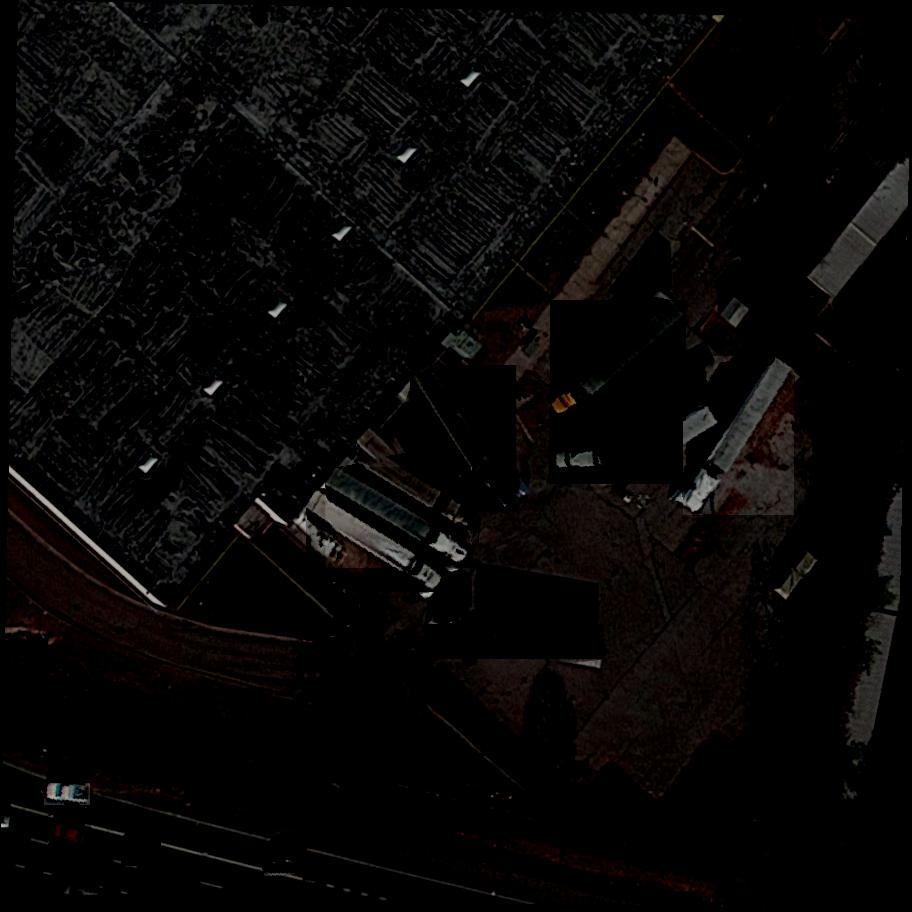large-vehicle: (682, 356, 795, 516), (548, 300, 687, 421), (410, 366, 520, 513), (325, 467, 474, 569), (305, 489, 446, 593), (357, 429, 480, 547), (547, 408, 724, 485), (428, 624, 605, 659)
small-vehicle: (49, 821, 91, 853), (121, 839, 161, 866), (44, 784, 91, 806), (261, 848, 307, 870)
